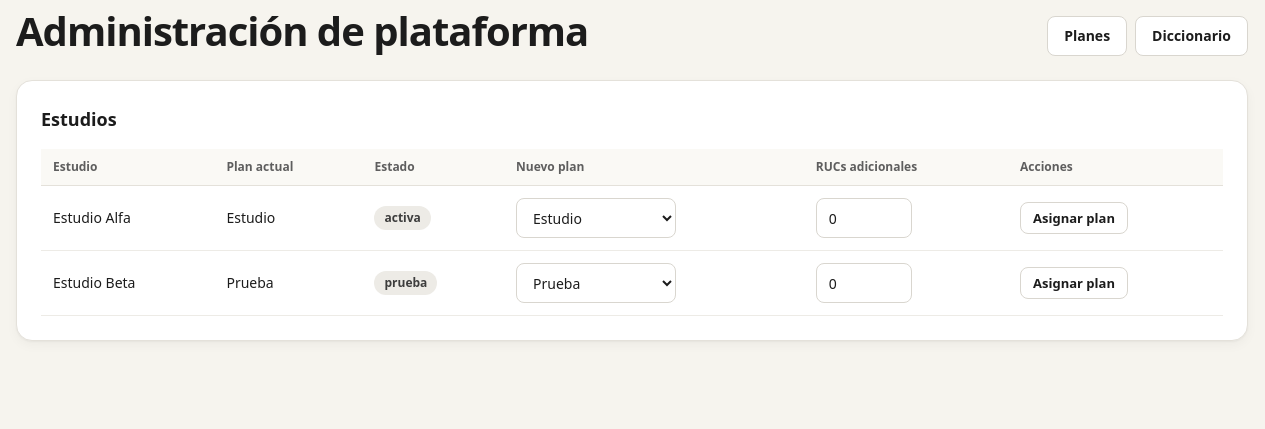
Test: /admin › asignar: PUT /suscripcion { planId, rucsExtraContratados } con CSRF; 200 → guardada y recarga
Select "Estudio" in the dropdown named "Plan" in the row of "Estudio Beta" at (596, 283), box [516, 263, 676, 303]
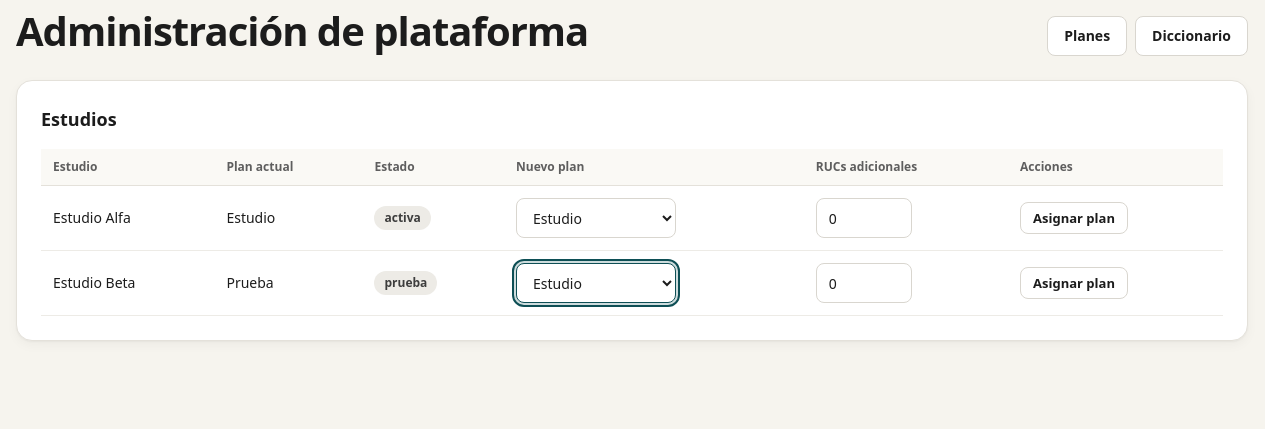
Replace the text in the field named "RUCs adicionales" in the row of "Estudio Beta" with "8" at (864, 283), box [816, 263, 912, 303]
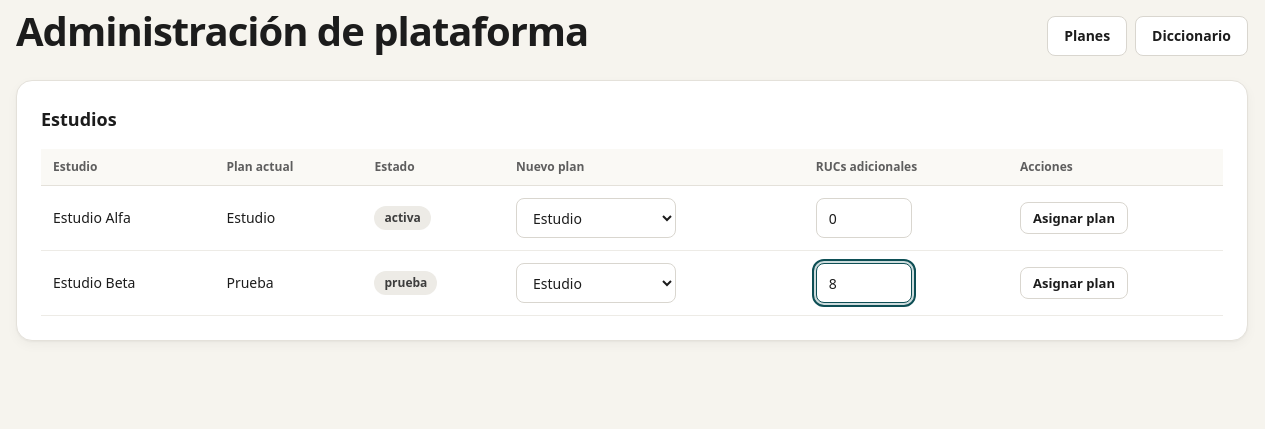
Click the button "Asignar plan" in the row of "Estudio Beta" at (1074, 283), box [1020, 267, 1128, 299]
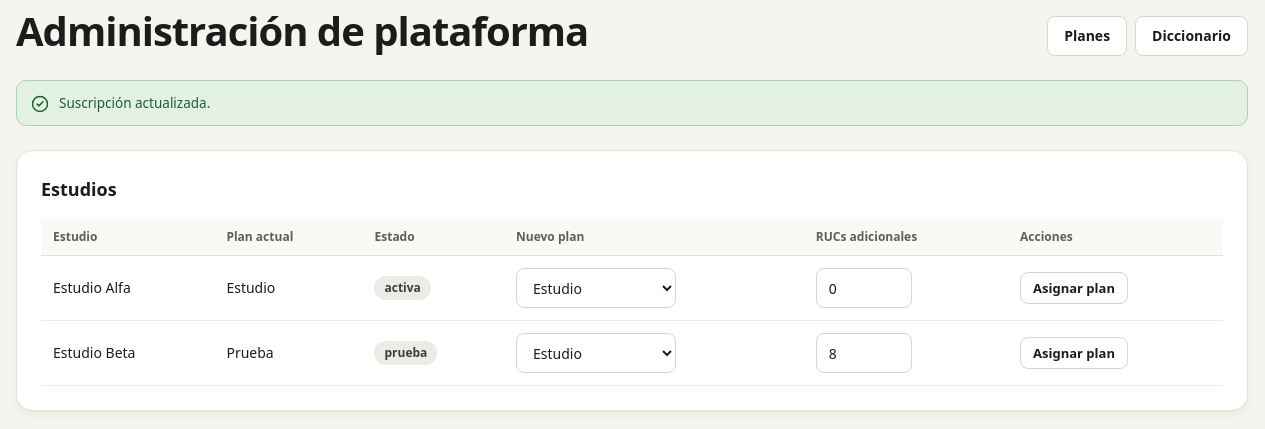
Expected: the text "Suscripción actualizada." is shown, [59, 93, 210, 113]
